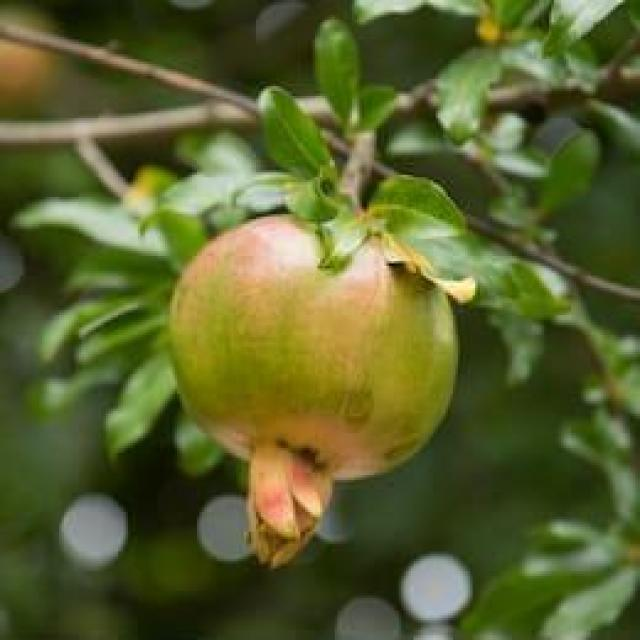Pomegranate: (163, 208, 462, 564)
